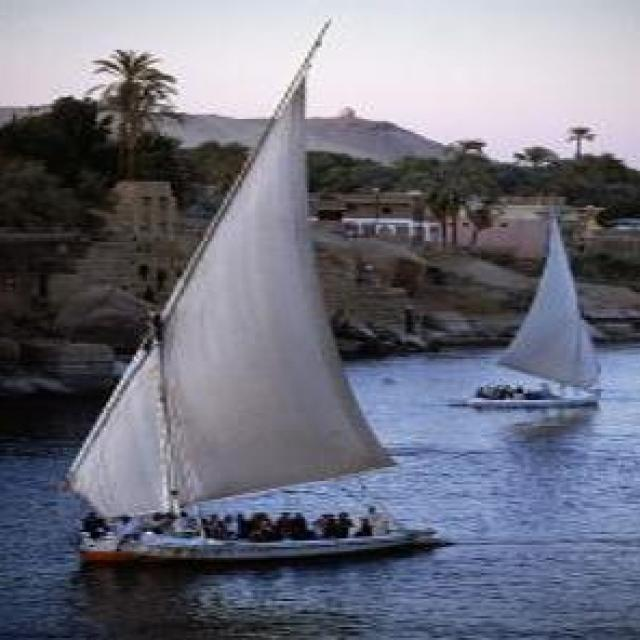sailboat: (64, 18, 445, 554), (459, 215, 612, 410)
